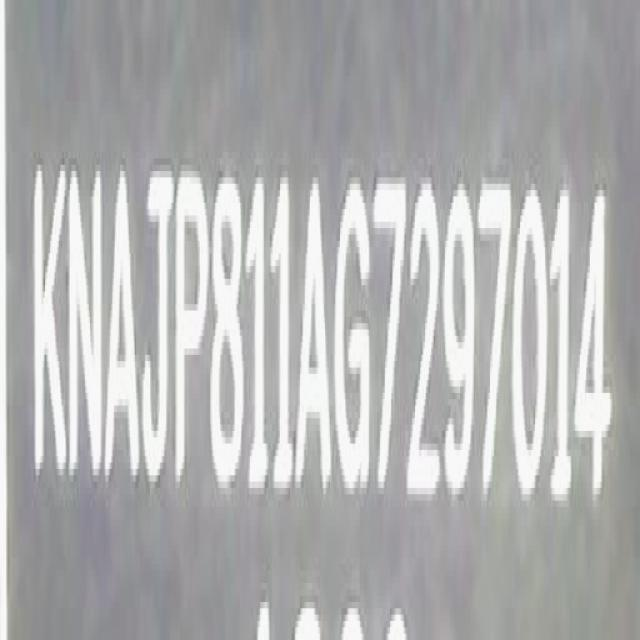0: (515, 172, 550, 504)
1: (270, 169, 294, 505), (553, 176, 575, 509), (248, 166, 268, 500)
2: (409, 173, 442, 505)
4: (577, 182, 616, 514)
7: (478, 171, 511, 508), (377, 168, 408, 512)
8: (211, 168, 244, 501)
9: (444, 173, 476, 506)
A: (296, 167, 335, 495), (108, 166, 142, 492)
G: (333, 171, 374, 501)
J: (142, 160, 175, 514)
K: (30, 153, 69, 493)
N: (67, 171, 105, 482)
P: (178, 164, 212, 500)
